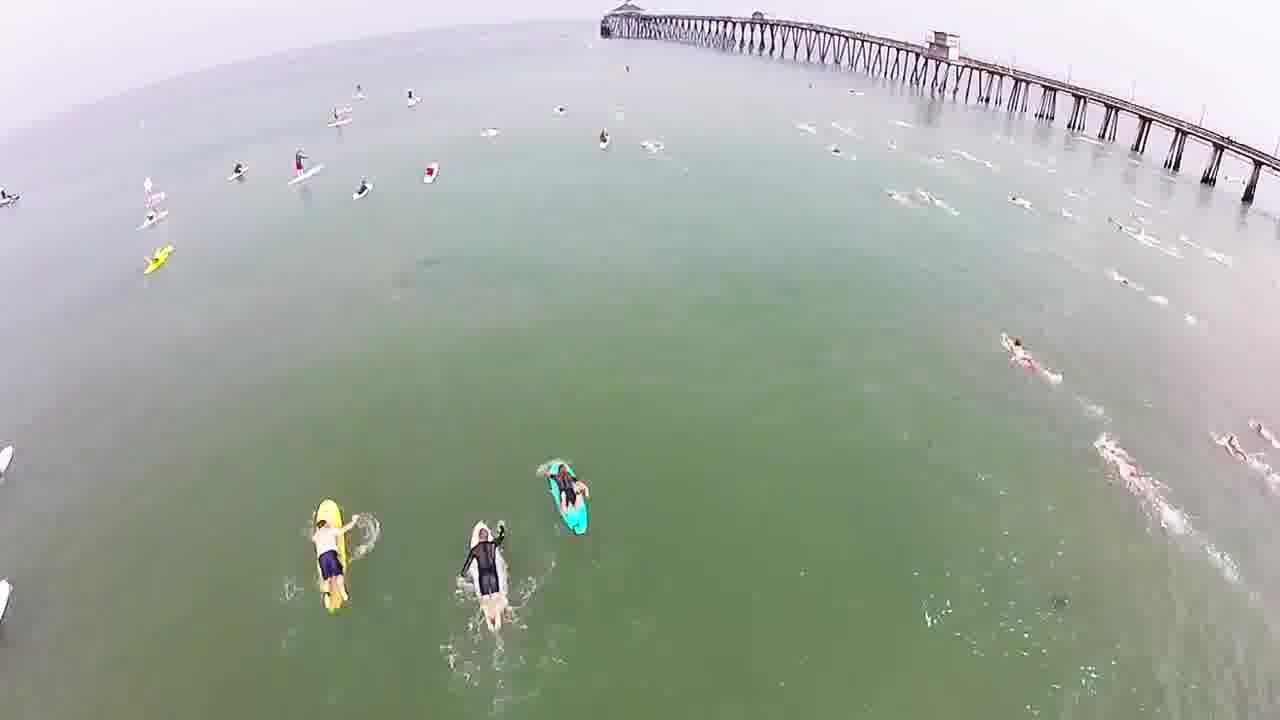swimmer: (467, 518, 510, 616), (304, 514, 350, 590), (999, 317, 1038, 383), (541, 459, 579, 502), (1208, 417, 1239, 467)
